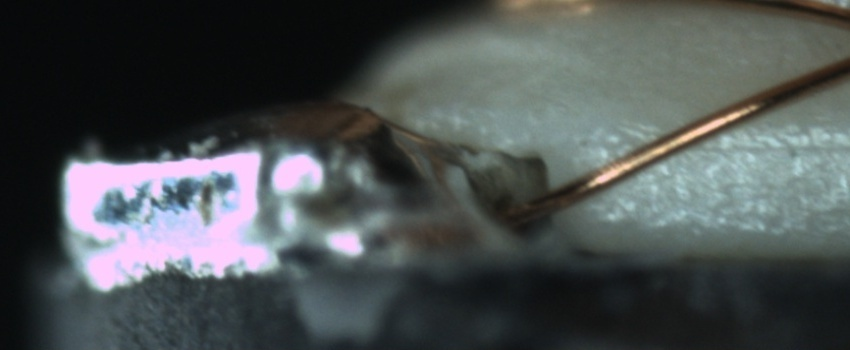DL: (674, 114, 849, 177)
